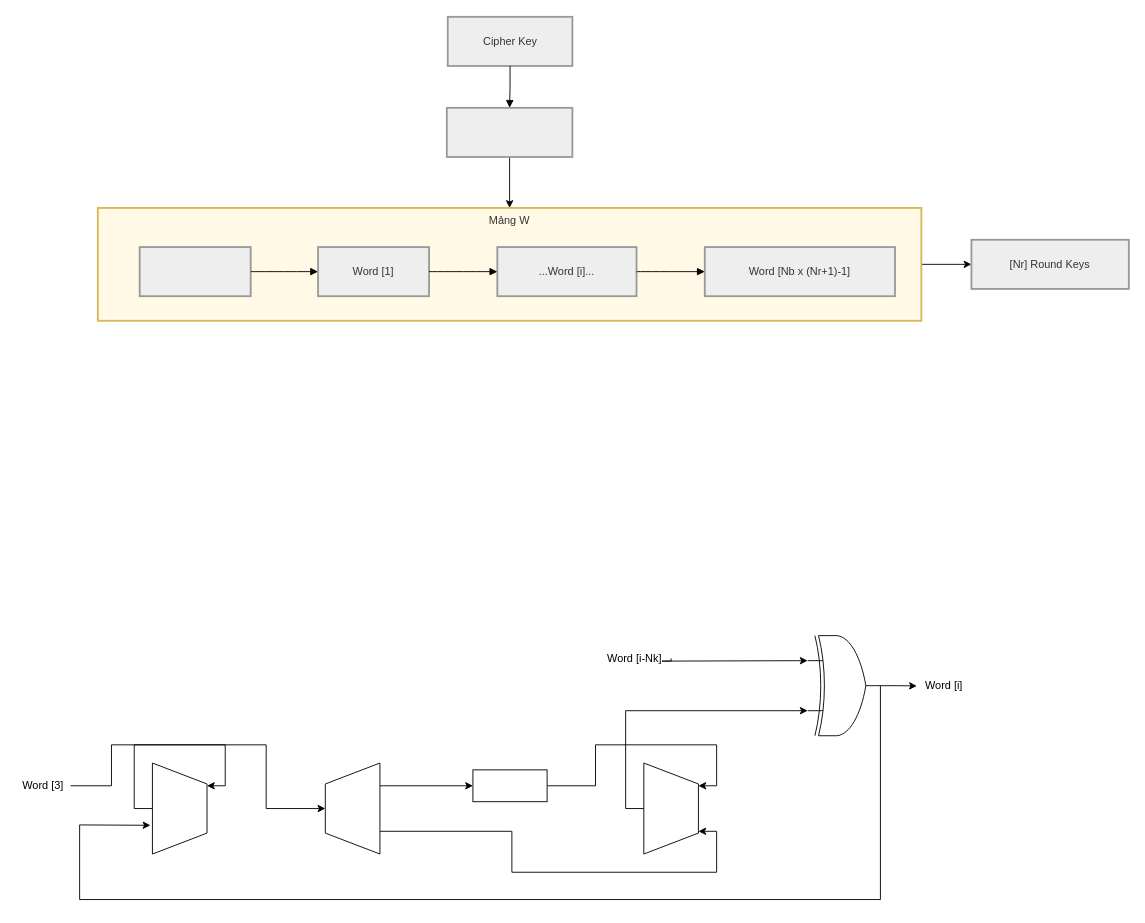
Some shapes in this 1145 by 923 pixel diagram are drawn without their labels. Each missing label, with the centre of its shape:
[Nk] Words: the point at 509,131
G Function: the point at 509,785
Word [0]: the point at 194,271
